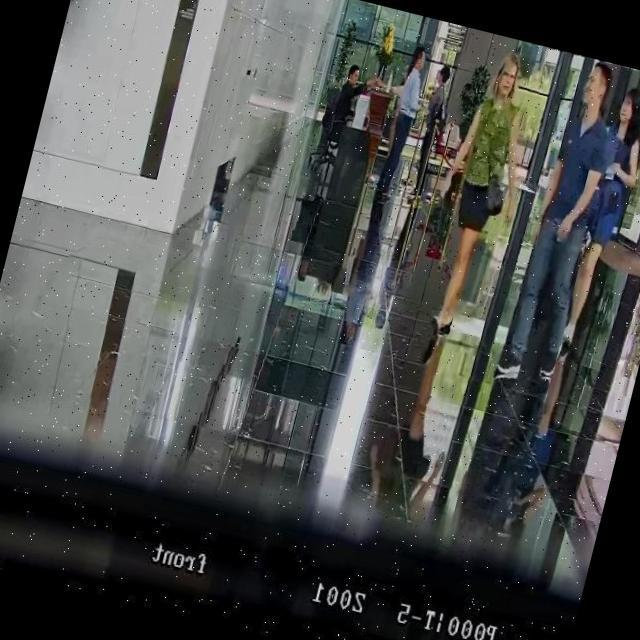person: (493, 54, 634, 392), (410, 43, 547, 348), (555, 82, 640, 353), (371, 44, 434, 205), (404, 64, 456, 200), (324, 60, 372, 154)
